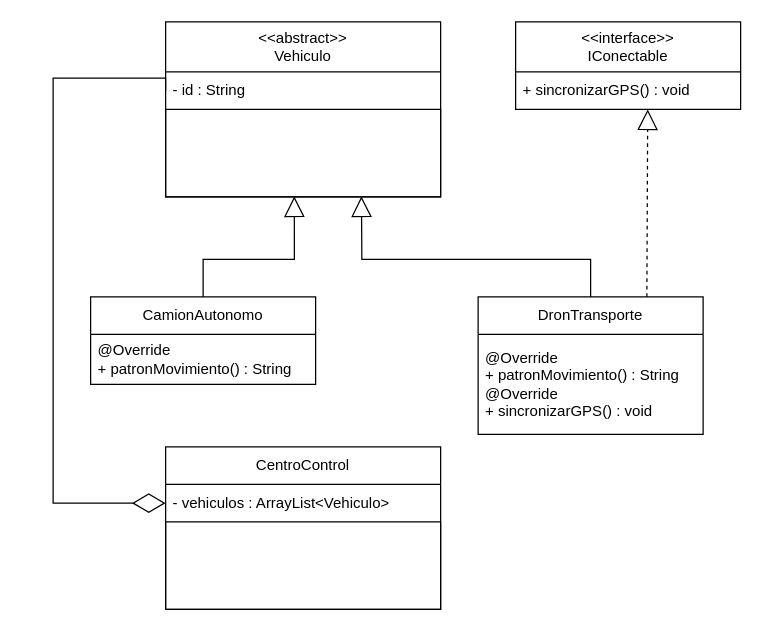
Image size: 763x631. Some labels were removed from this diagram. Here are the shapes that lost their labels. From the top down, the centre of each, then its label:
At pixel 302 152: "+ getId() : String + patronMovimiento() : String".
At pixel 302 565: "+ registrarUnidad(Vehiculo v) : void + monitorearFlota() : void".
